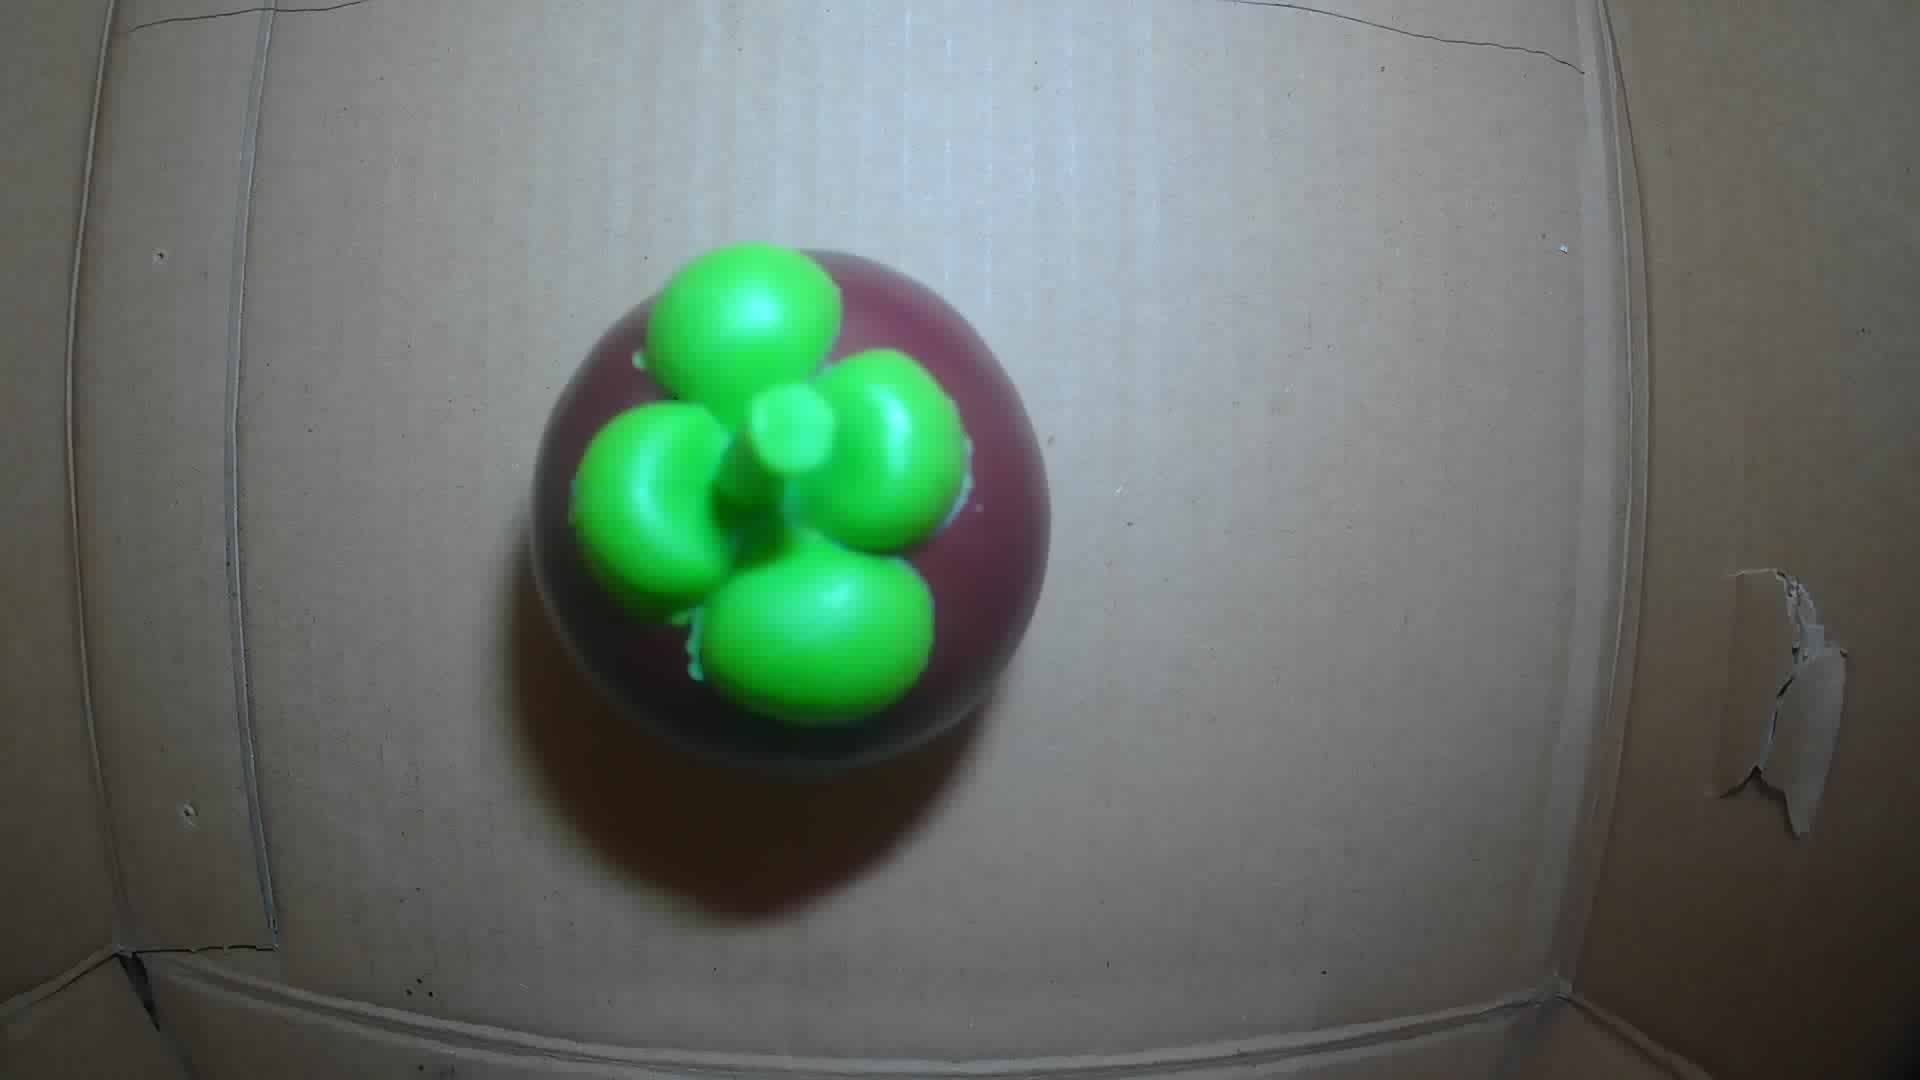mangosteen: (531, 237, 1054, 761)
